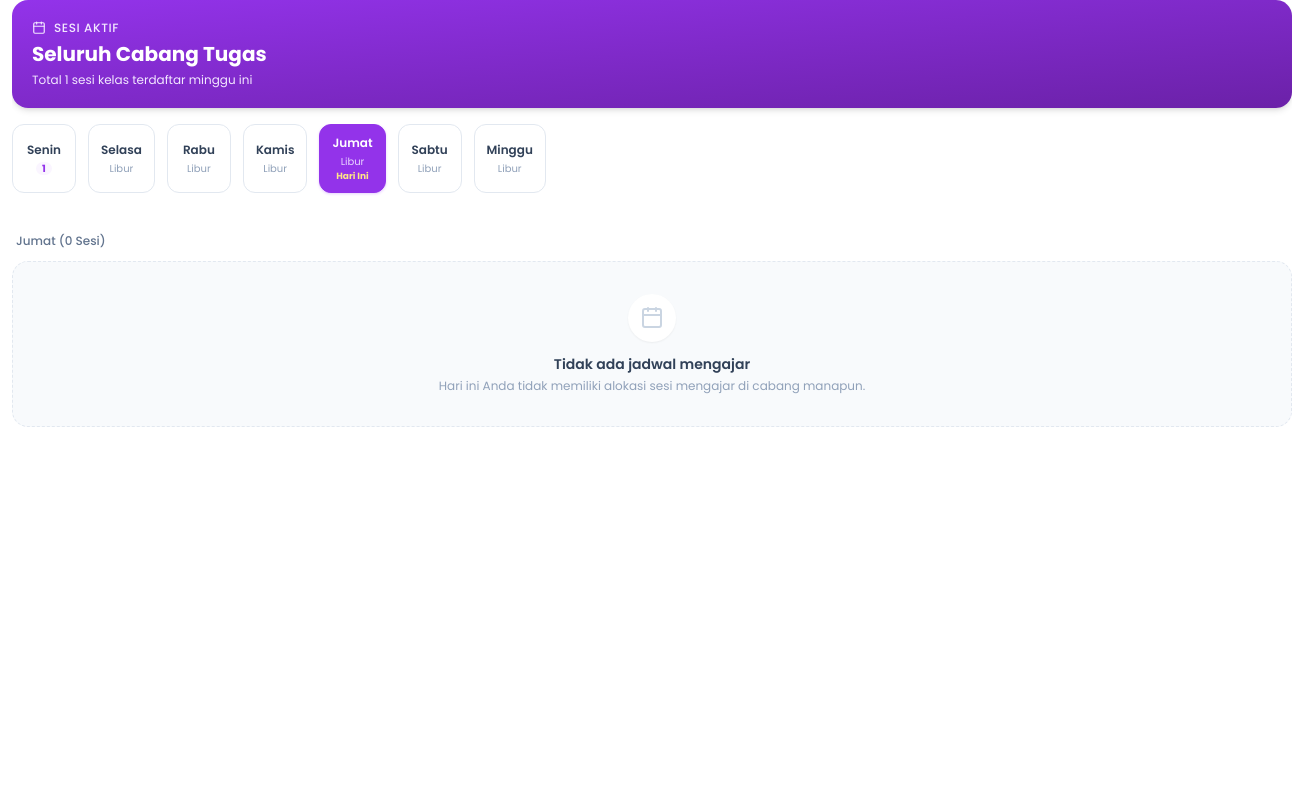
Scenario: TeacherScheduleClient Overdue SPP indicators › renders detailed overdue info box under student row when expanded
What coordinates should you click on to do the following:
click the button "Senin 1"
I would click on:
 (44, 159)
Its box is [12,124,76,193].
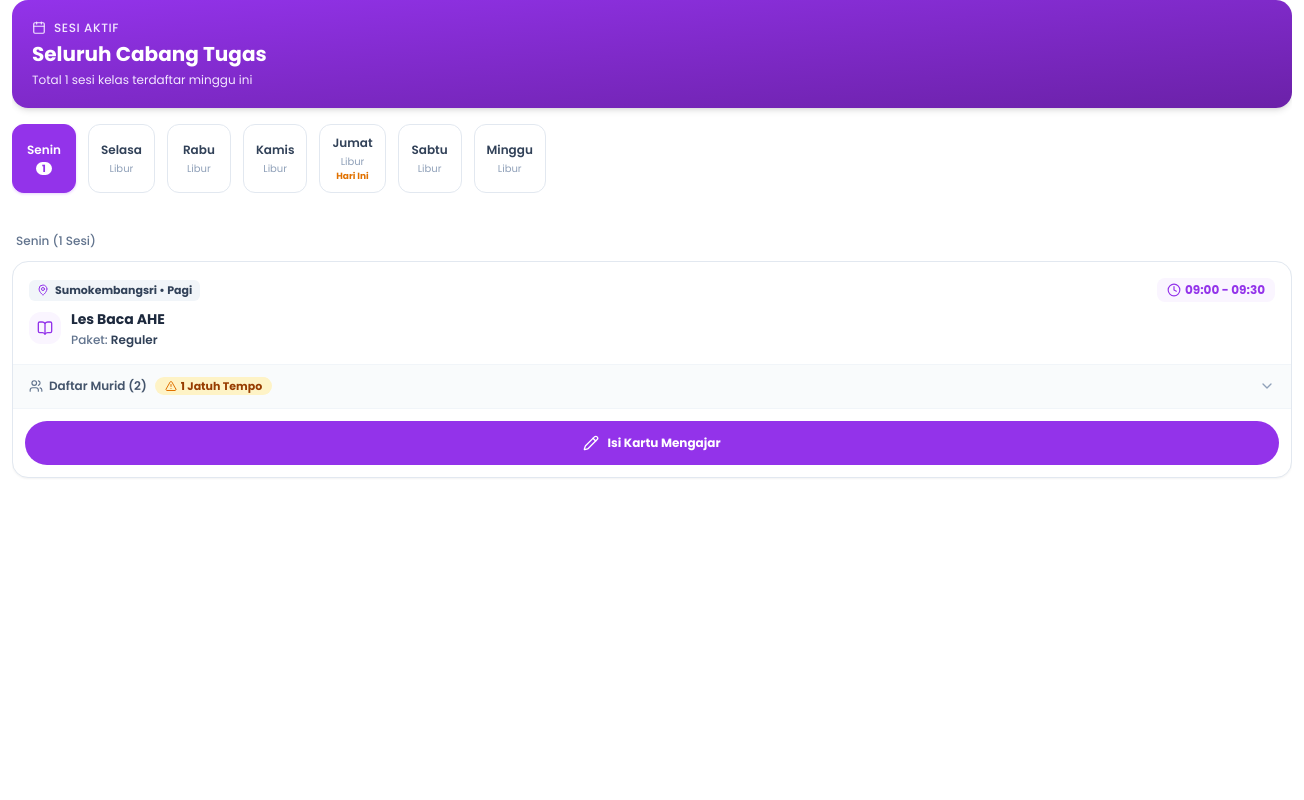
Open the student list accordion
What coordinates should you click on to do the following:
click the button "Daftar Murid (2) 1 Jatuh Tempo"
I would click on:
 (92, 386)
Its box is [13,364,1291,408].
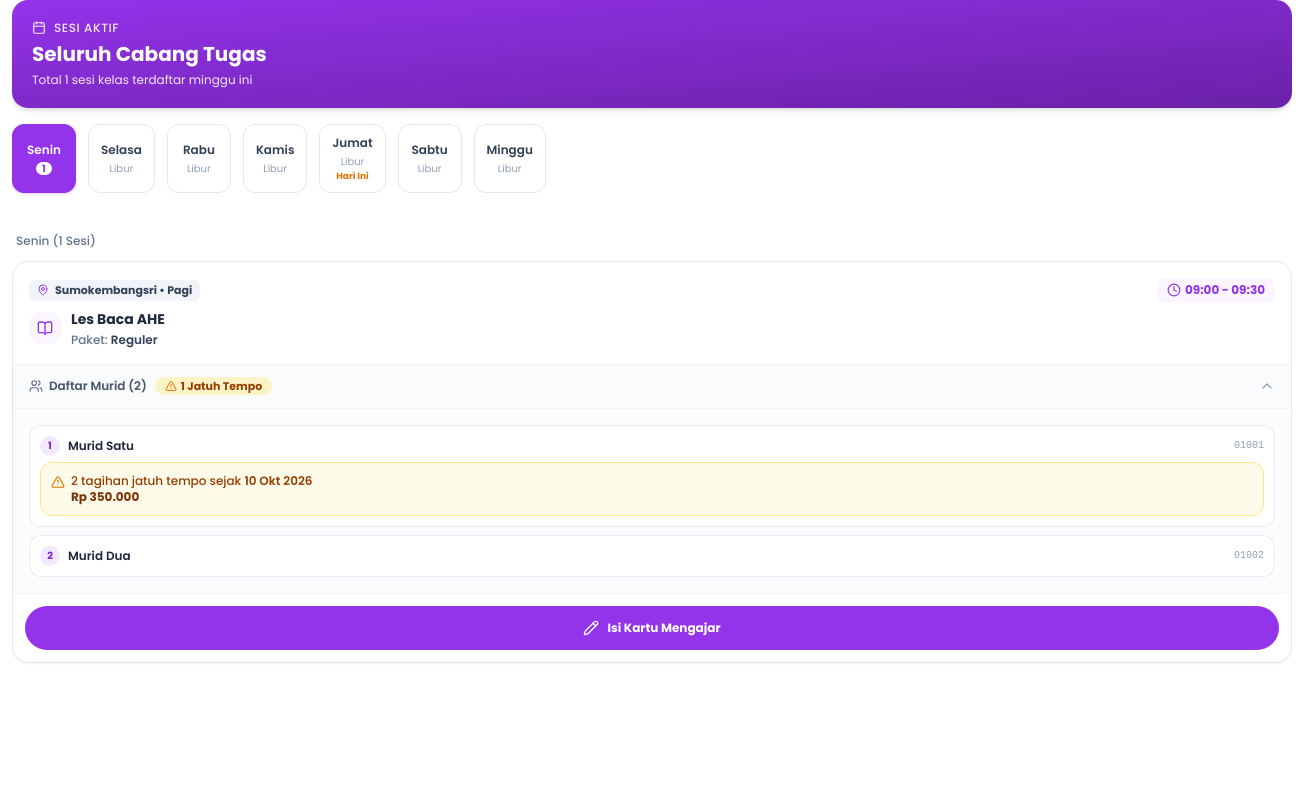
Now the text "2 tagihan jatuh tempo sejak 10 Okt 2026" is shown, box [71,472,312,489]
Now the text "Rp 350.000" is shown, box [71,488,139,505]
